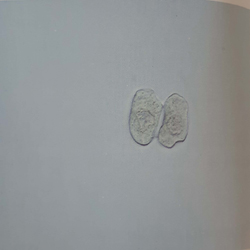Epithelial: (127, 82, 194, 155)
